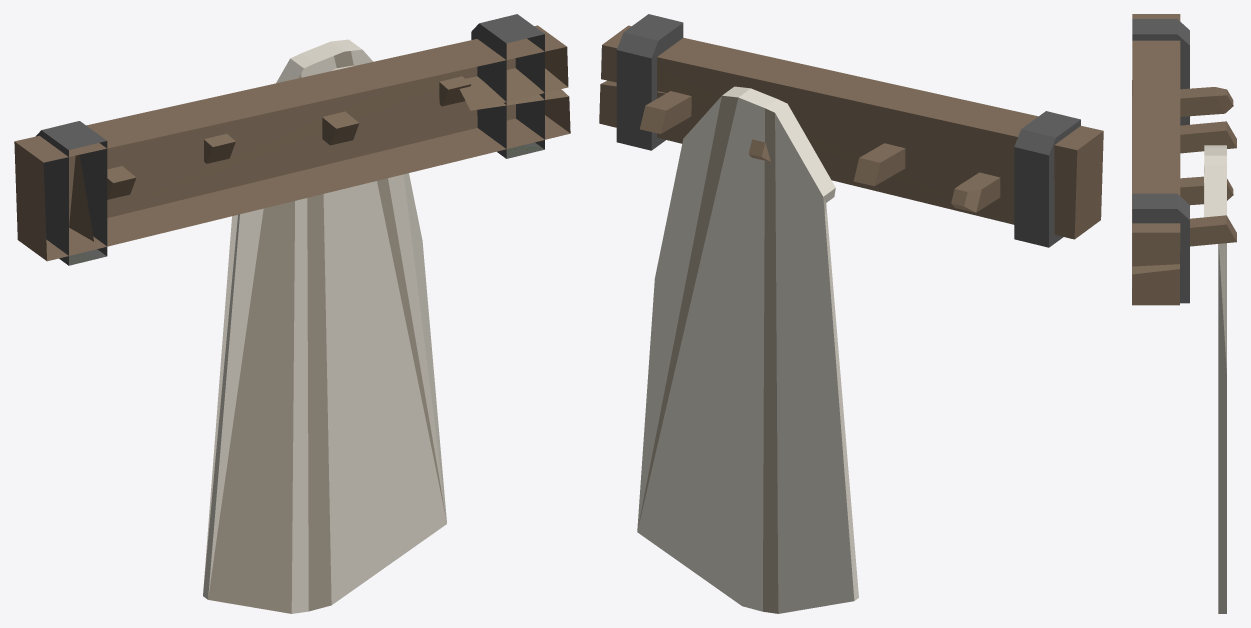
The model's file is EA03_Prop_House_Hanger_01b.glb.
3 views of the same model, side by side, from view 1: azimuth 30°, elevation 25°; view 2: azimuth 150°, elevation 25°; view 3: azimuth 270°, elevation 25° (orthographic). The views are drawn at different scales.
Visible parts, largest first — view 1: EA03_Prop_House_Hanger_01b; view 2: EA03_Prop_House_Hanger_01b; view 3: EA03_Prop_House_Hanger_01b.
Boxes of the visible parts, x1,y1,x2,y2 form: EA03_Prop_House_Hanger_01b: (14, 14, 570, 613); EA03_Prop_House_Hanger_01b: (599, 14, 1103, 613); EA03_Prop_House_Hanger_01b: (1132, 14, 1236, 613).
Bounding box in the file's own units: 1.18 × 1.23 × 0.2493.
Materials: 1 (1 with a texture image).
